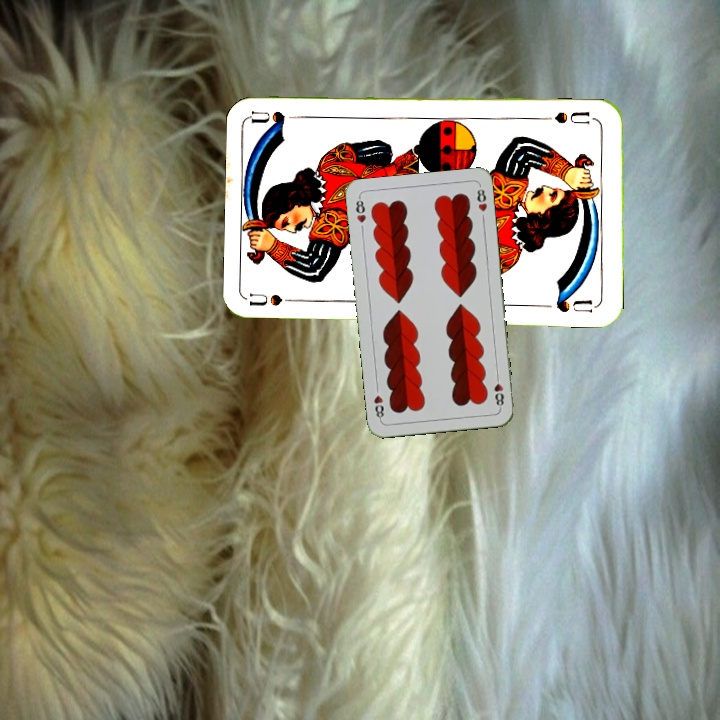H8: (490, 370, 506, 410), (352, 194, 369, 225)
SU: (247, 289, 307, 309), (550, 107, 600, 127)
